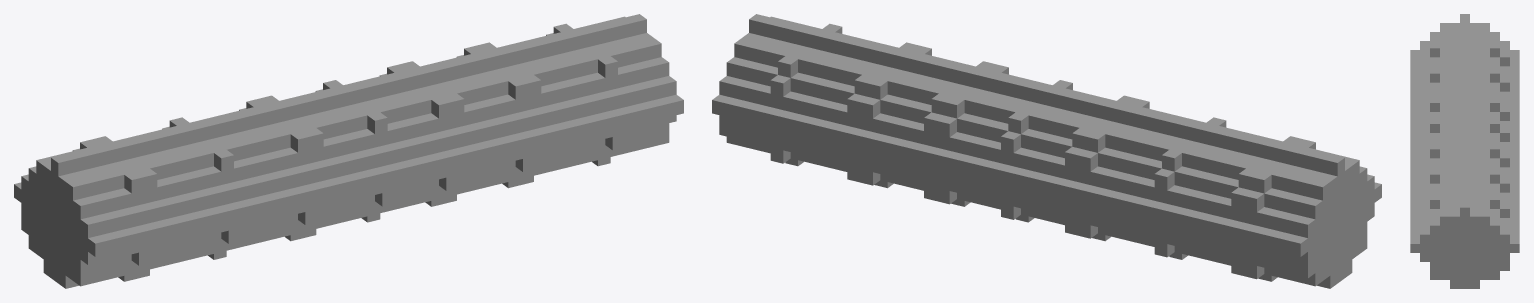
Rendered from lvl1-23.obj.
3 renders of one model, left to right at view 1: azimuth 30°, elevation 25°; view 2: azimuth 150°, elevation 25°; view 3: azimuth 270°, elevation 25°, orthographic. The views are drawn at different scales.
Bounding box in the file's own units: 4.6 × 0.9 × 1.1.
Materials: 1 (1 with a texture image).
